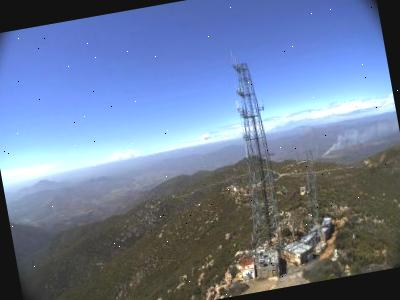smoke: (312, 117, 400, 158)
